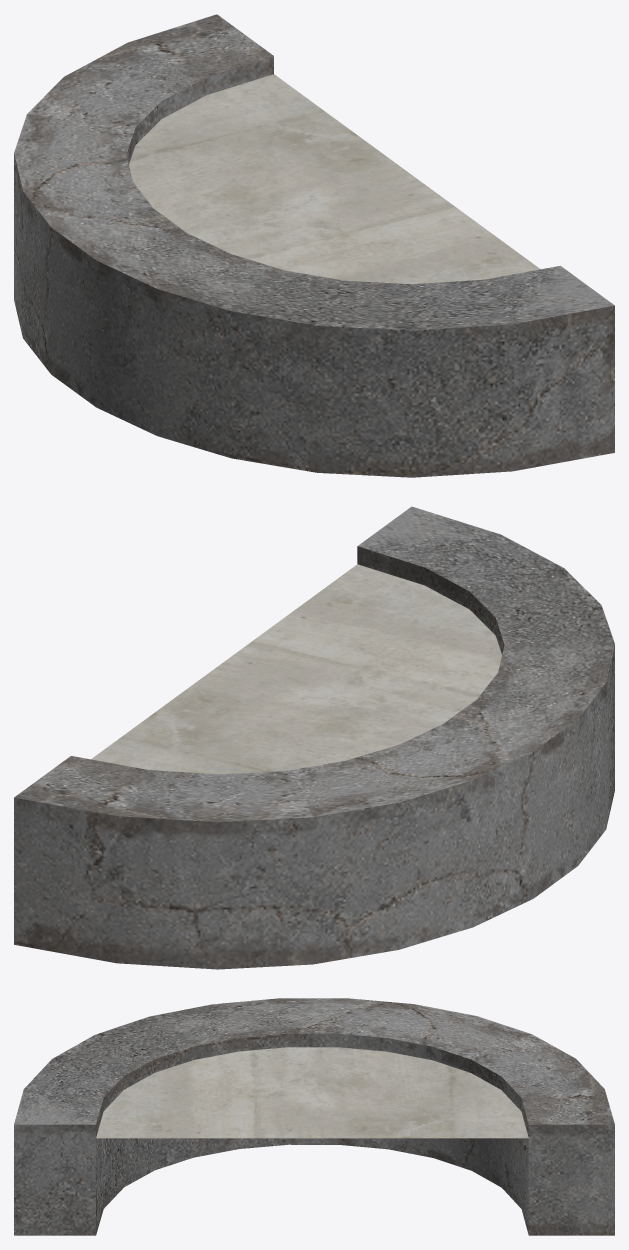
The model's file is HH_Concrete_Island_Semicircle.fbx.
3 views of the same model, one above another, from view 1: azimuth 30°, elevation 25°; view 2: azimuth 150°, elevation 25°; view 3: azimuth 270°, elevation 25° (orthographic). The views are drawn at different scales.
Visible parts, largest first — view 1: HH_Concrete_Island_Semicircle_LOD0; view 2: HH_Concrete_Island_Semicircle_LOD0; view 3: HH_Concrete_Island_Semicircle_LOD0.
Part boxes in pixels (x1,y1,x2,y2): HH_Concrete_Island_Semicircle_LOD0: (14,14,614,477); HH_Concrete_Island_Semicircle_LOD0: (14,506,614,969); HH_Concrete_Island_Semicircle_LOD0: (14,998,614,1235).
Size of what is drawn, in the model's own units: 69.32 by 28.46 by 139.
